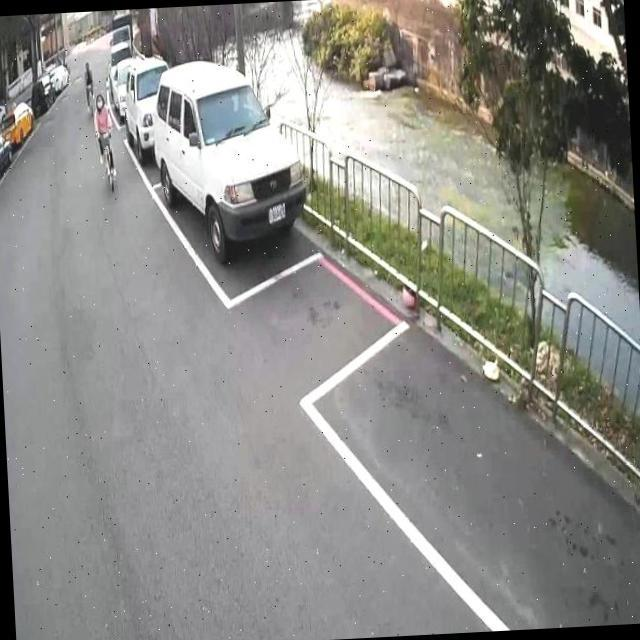person: (93, 90, 118, 174)
